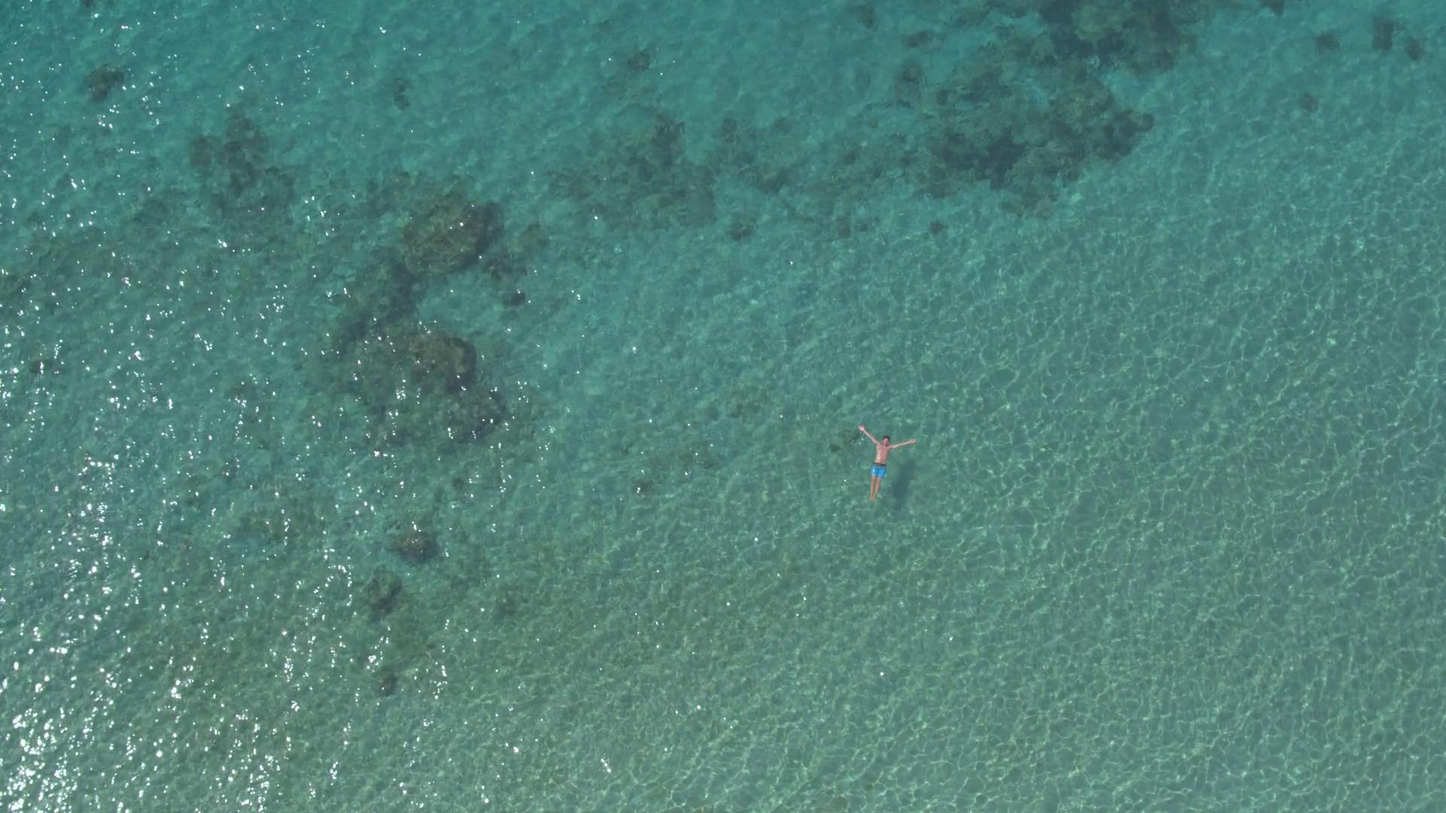human: (859, 426, 917, 502)
